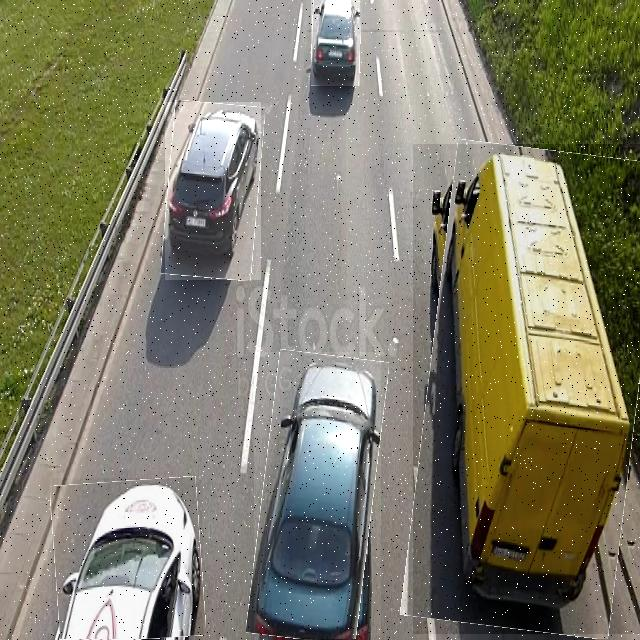Car: (254, 352, 381, 640), (52, 478, 203, 640), (165, 102, 261, 280), (311, 0, 360, 86)
Truck: (413, 144, 640, 634)
